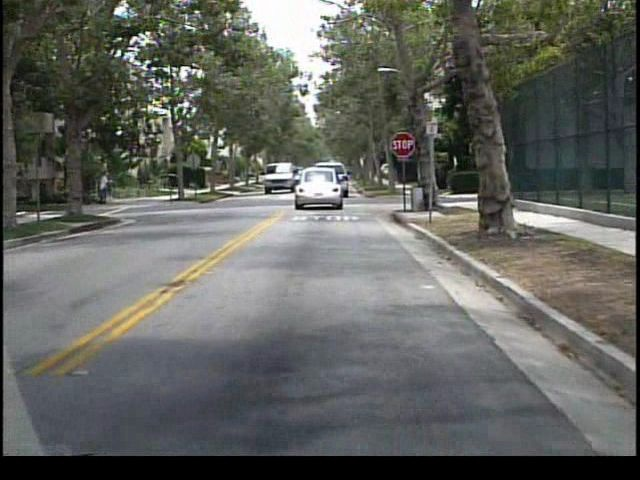person: (99, 165, 117, 208), (86, 165, 98, 207)
